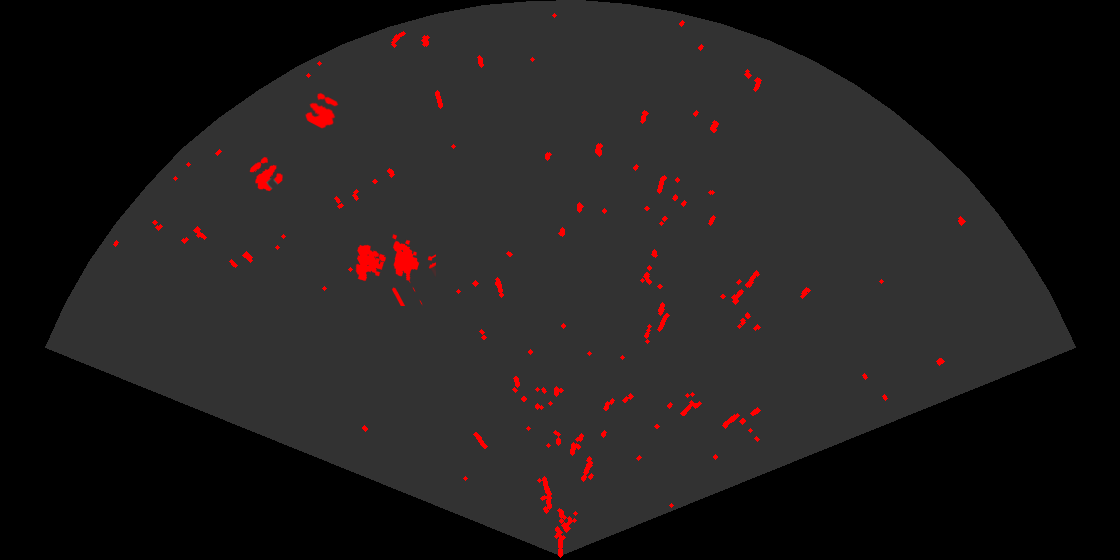ball: (304, 91, 340, 130), (248, 155, 284, 193)
cage: (354, 233, 436, 306)
